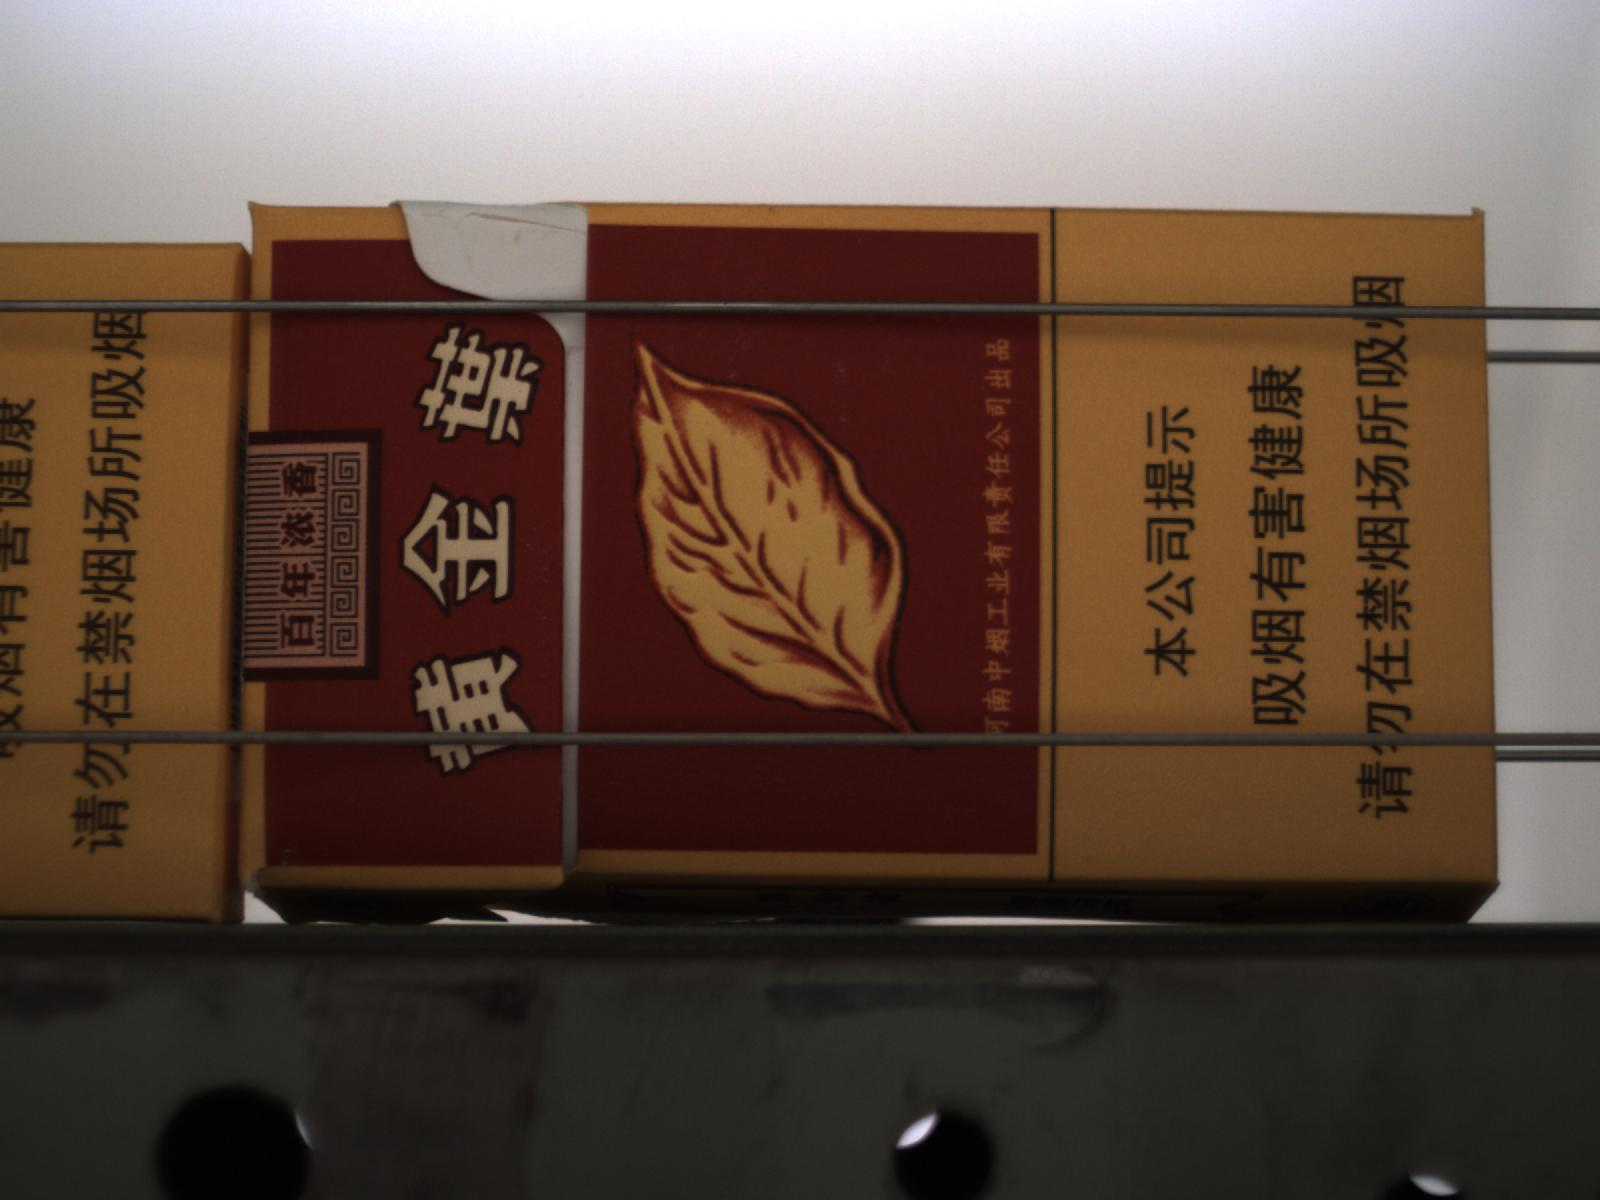boxDamage_front: (466, 866, 1500, 926)
dirtyPrint: (837, 367, 847, 377)
frame: (387, 197, 592, 301)
lower_upwarp: (244, 884, 559, 928)
